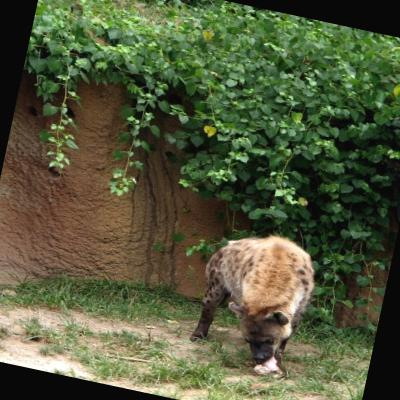hyenas: (155, 163, 338, 400)
